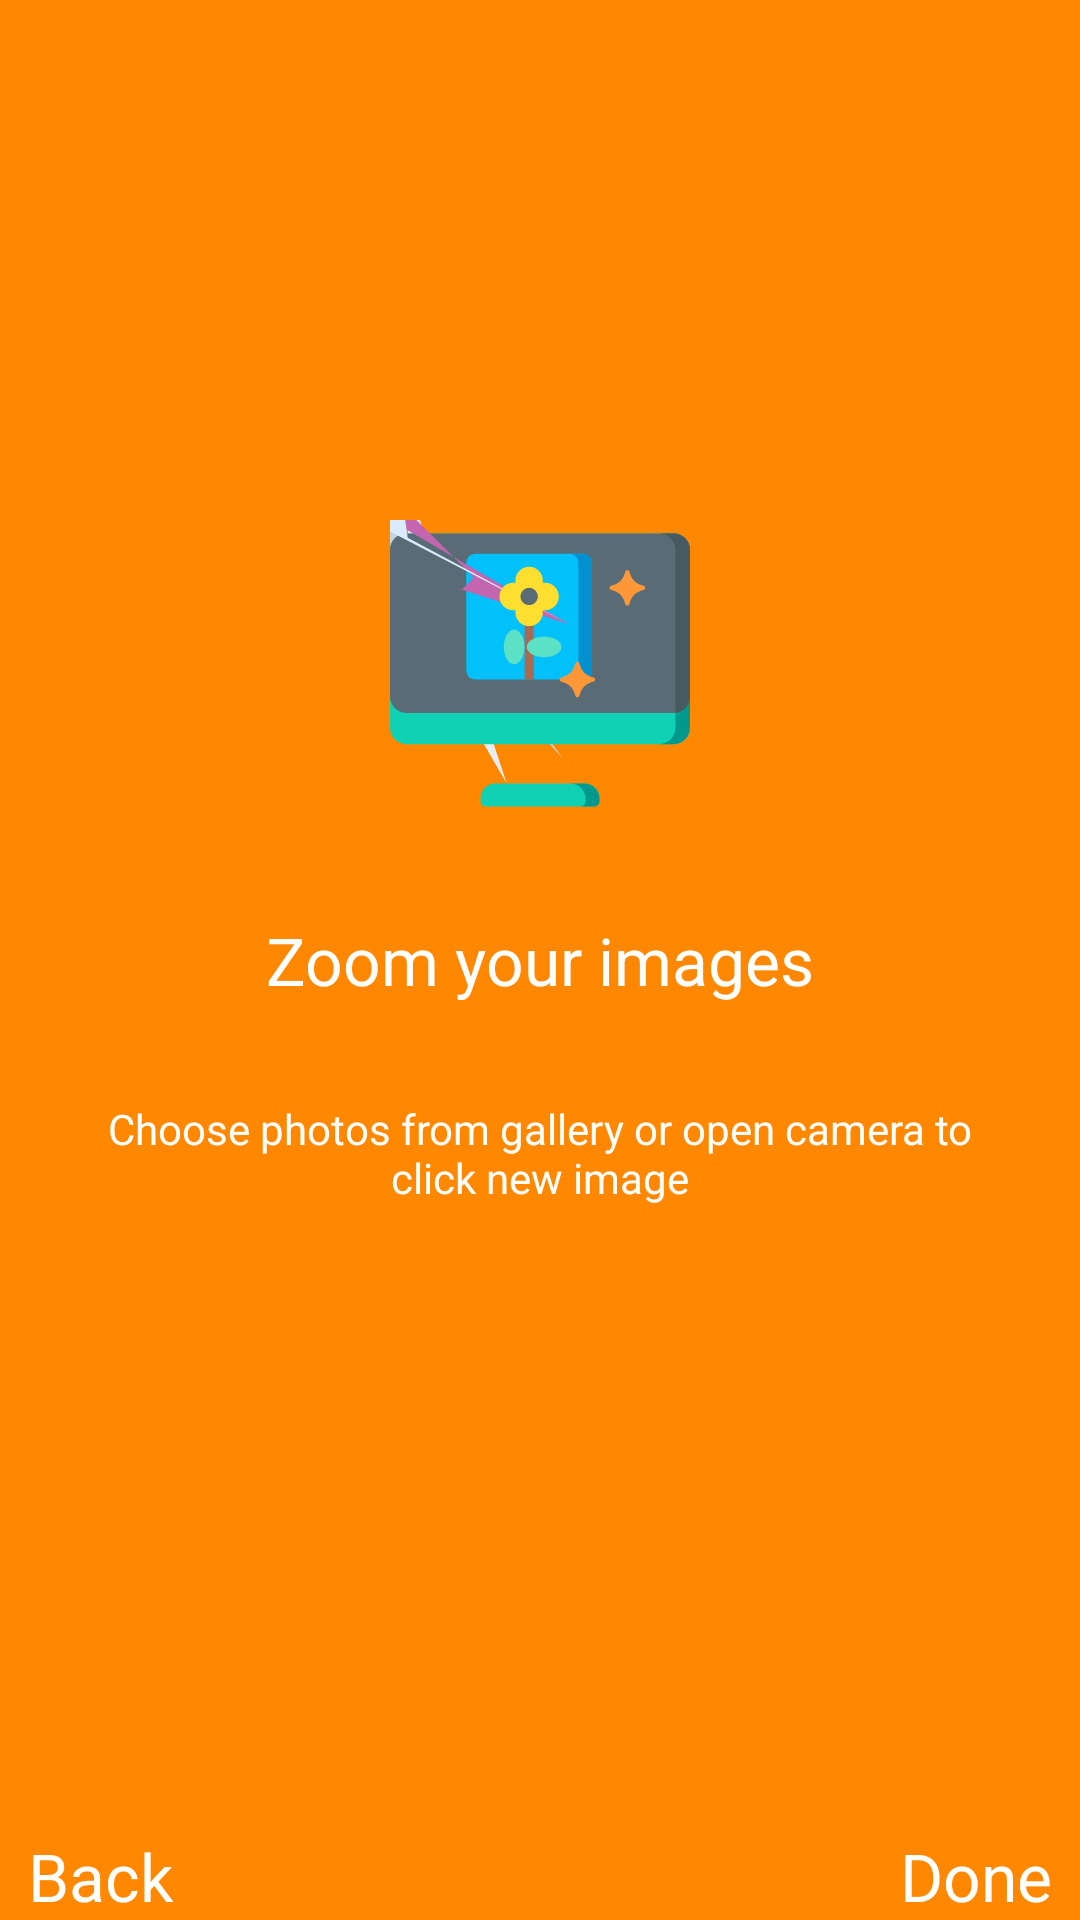

Icons on this 1080*1920 Android screen, each with the point to tap as (x=x, y=y):
gallery: (x=540, y=663)
